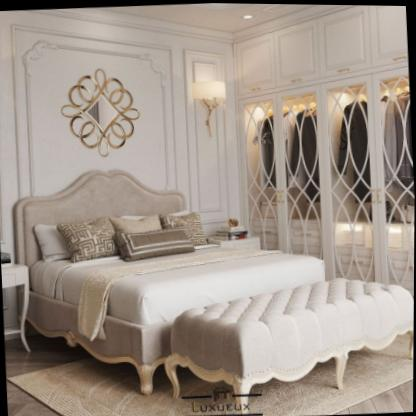Closet: (235, 4, 415, 293)
Futec frame: (0, 14, 244, 260)
